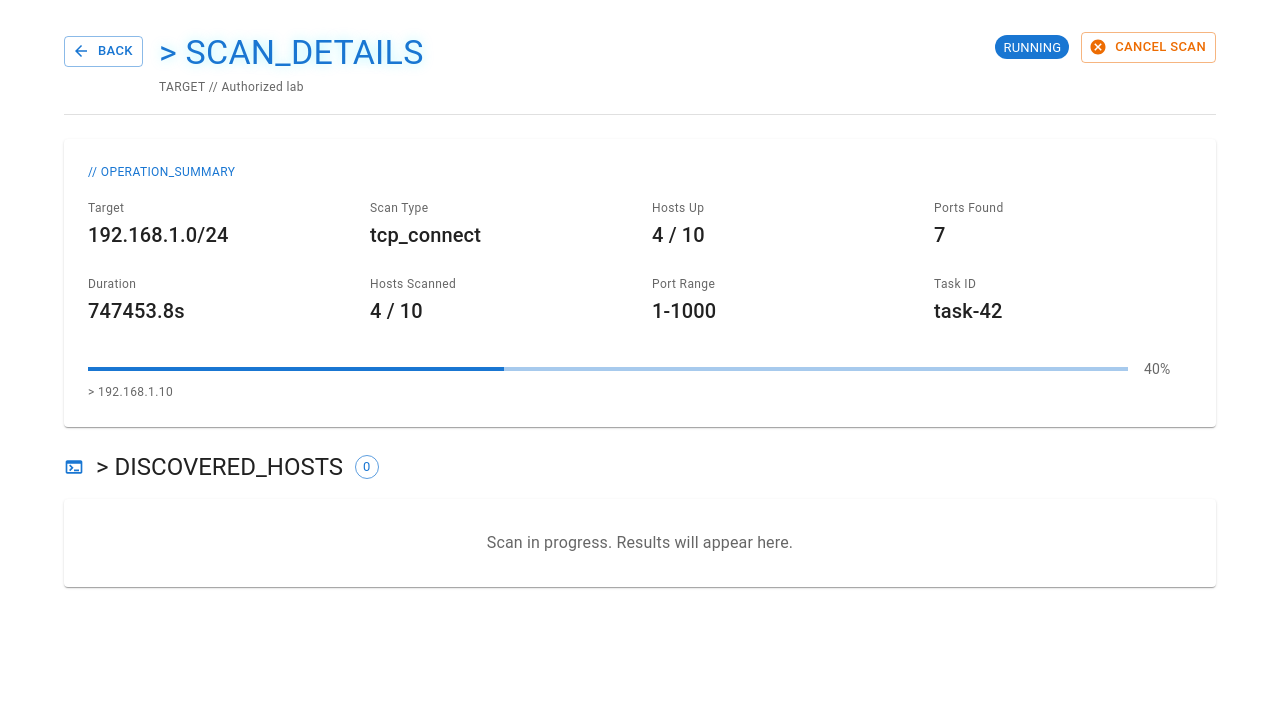
Scenario: ScanDetails › cancels an active scan and reloads its state
The image size is (1280, 720).
Expected: the heading "> SCAN_DETAILS" is shown, [159,32,424,74]
Click the button "Cancel Scan" at (1149, 47), box [1081,32,1216,63]
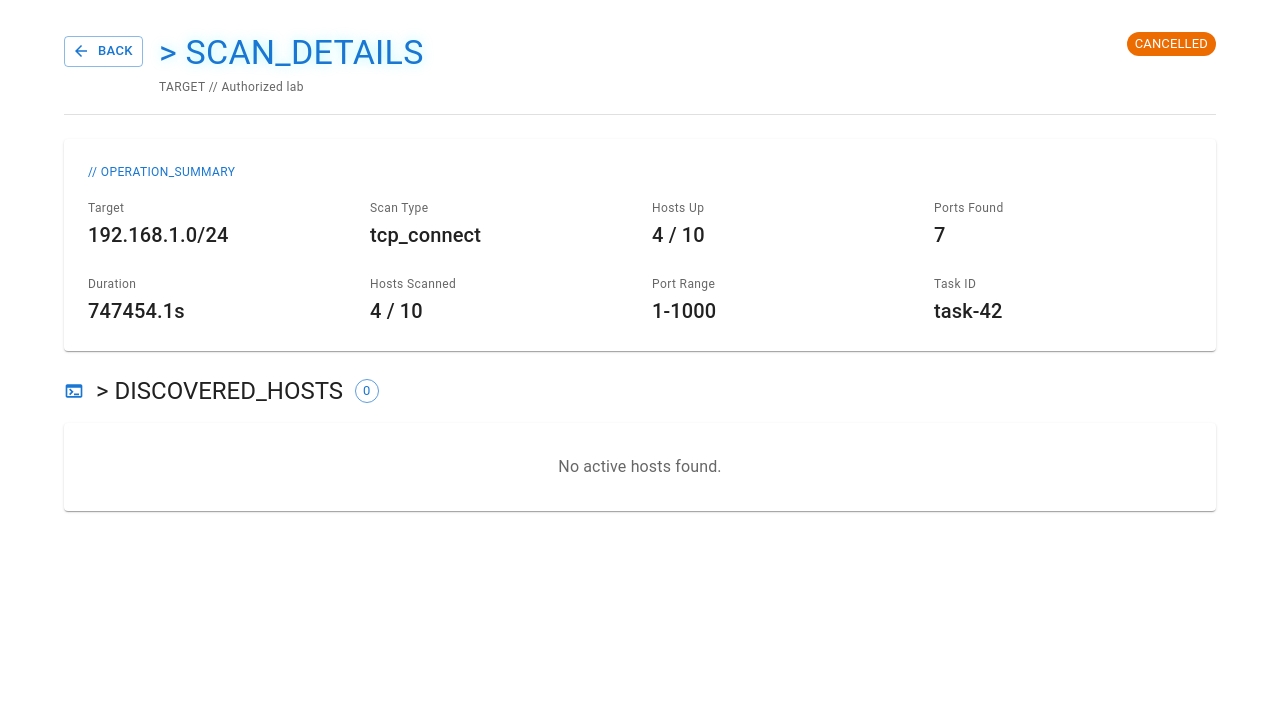
Now the button "Cancel Scan" is gone
